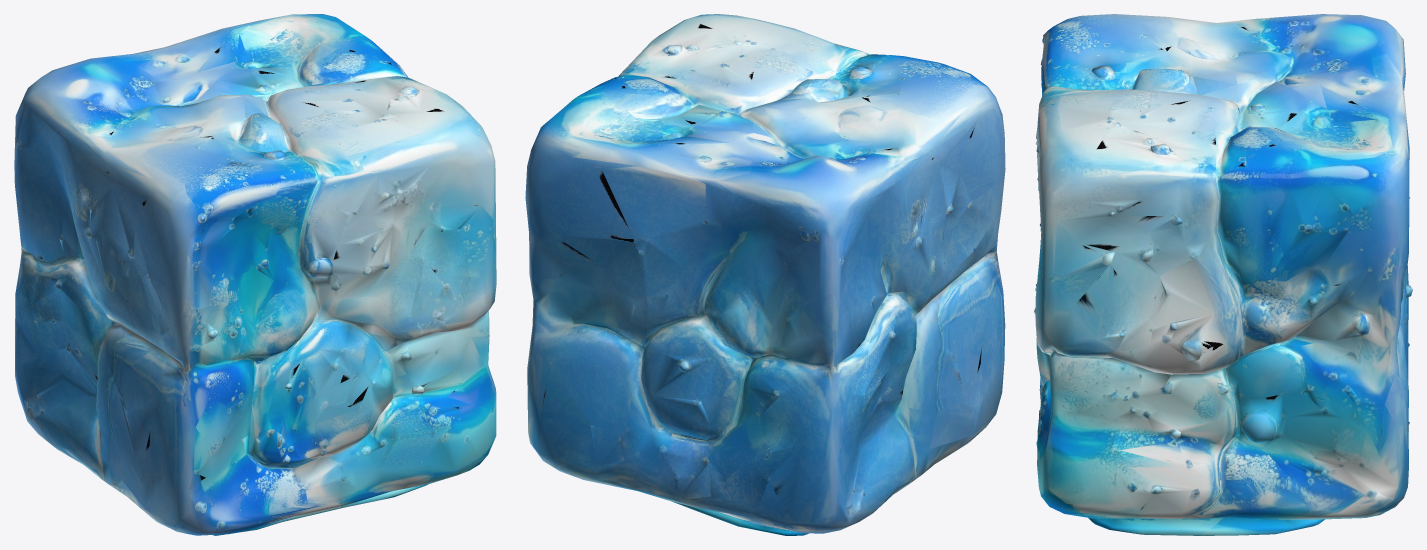
The model's file is buz_kup_2.glb.
3 views of the same model, side by side, from view 1: azimuth 30°, elevation 25°; view 2: azimuth 150°, elevation 25°; view 3: azimuth 270°, elevation 25° (orthographic). The views are drawn at different scales.
Parts seen in each view (by area): view 1: tripo_node_233fe0d1-993b-48df-8c99-7d475dff2f1f; view 2: tripo_node_233fe0d1-993b-48df-8c99-7d475dff2f1f; view 3: tripo_node_233fe0d1-993b-48df-8c99-7d475dff2f1f.
Boxes of the visible parts, x1=… form: tripo_node_233fe0d1-993b-48df-8c99-7d475dff2f1f: x1=14, y1=14, x2=496, y2=535; tripo_node_233fe0d1-993b-48df-8c99-7d475dff2f1f: x1=525, y1=14, x2=1005, y2=535; tripo_node_233fe0d1-993b-48df-8c99-7d475dff2f1f: x1=1034, y1=14, x2=1412, y2=535.
Bounding box in the file's own units: 0.9151 × 0.9812 × 0.8726.
1 material, 1 textured.
